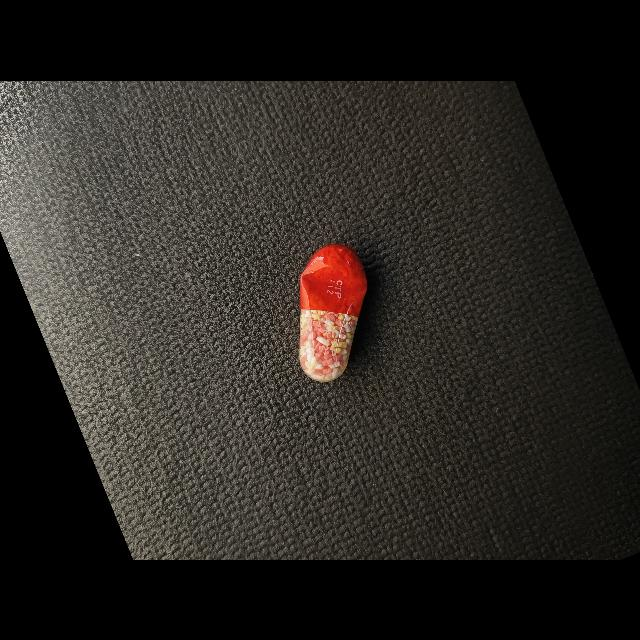Defective Capsule: (299, 244, 367, 382)
